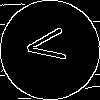V: (25, 25, 75, 66)
